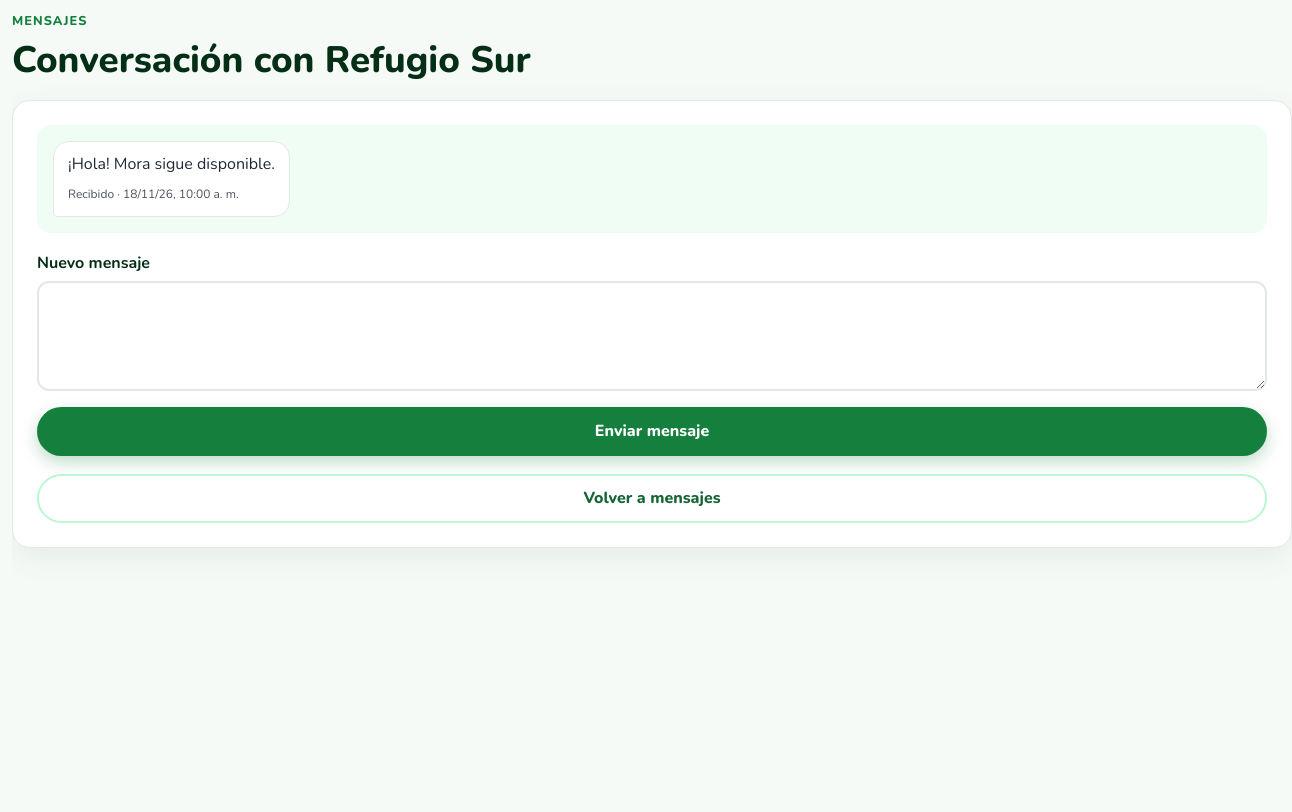
Mensajes › no envía mensajes vacíos y muestra los errores del envío
Check: the text "¡Hola! Mora sigue disponible." is shown, box [68, 152, 275, 177]
Click the button "Enviar mensaje" at [652, 432], box [37, 407, 1267, 456]
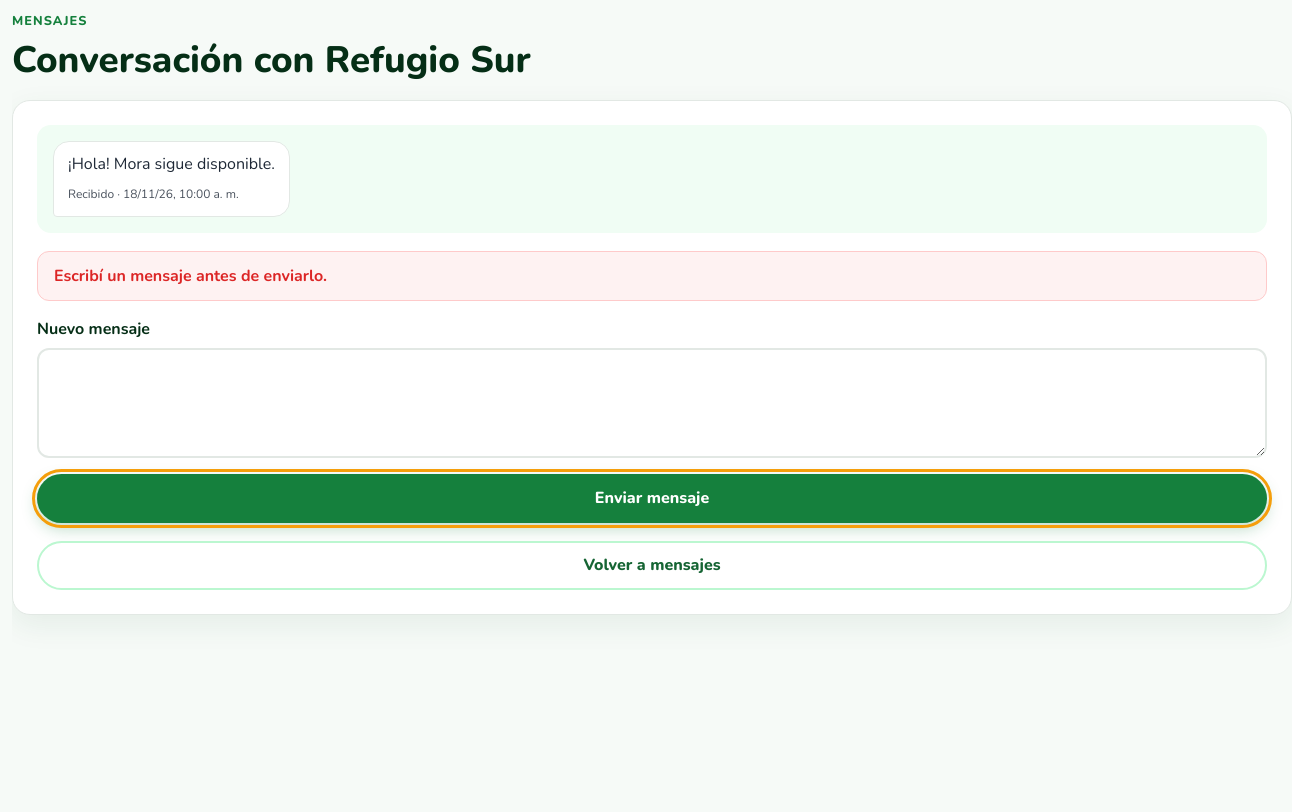
Check: the message shows "Escribí un mensaje", box [54, 265, 327, 287]
Type "Hola" into the text box labelled "Nuevo mensaje" at [652, 403], box [37, 348, 1267, 458]
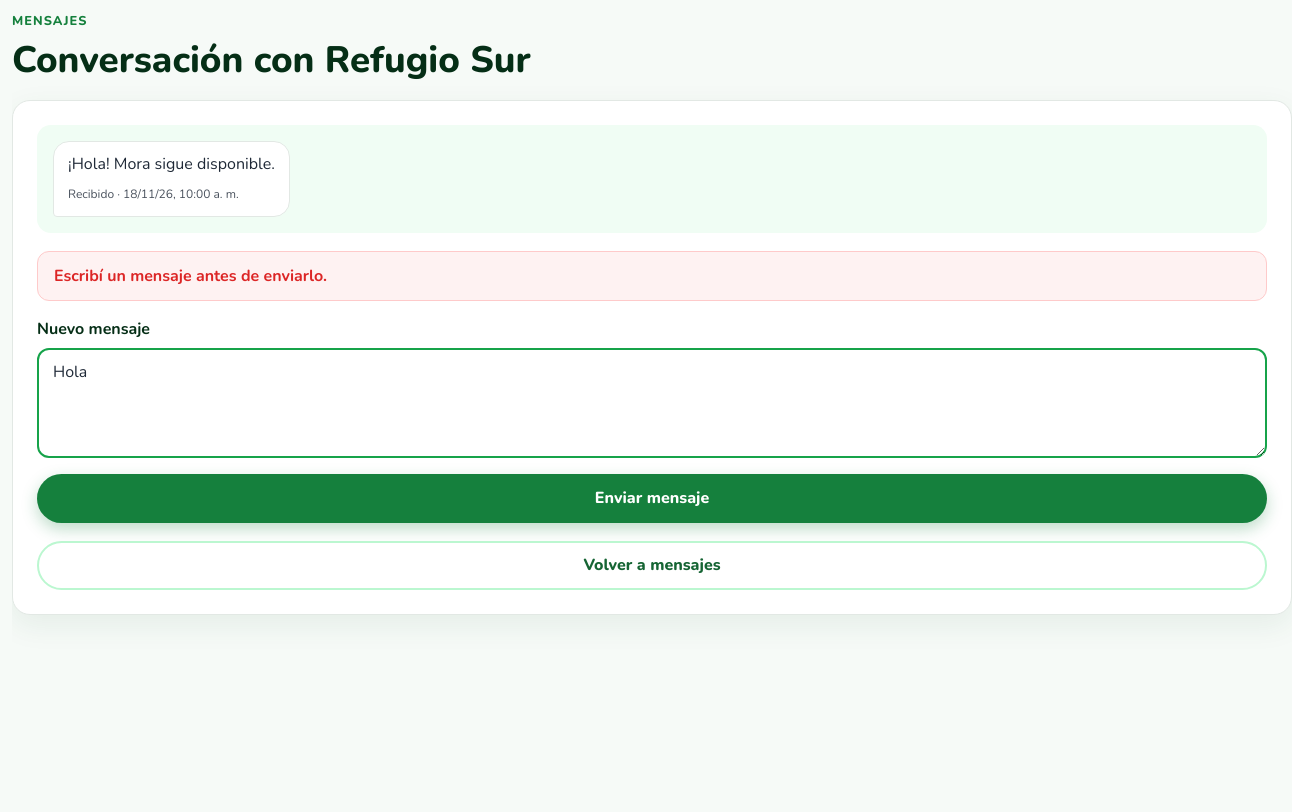
Click the button "Enviar mensaje" at [652, 499], box [37, 474, 1267, 523]
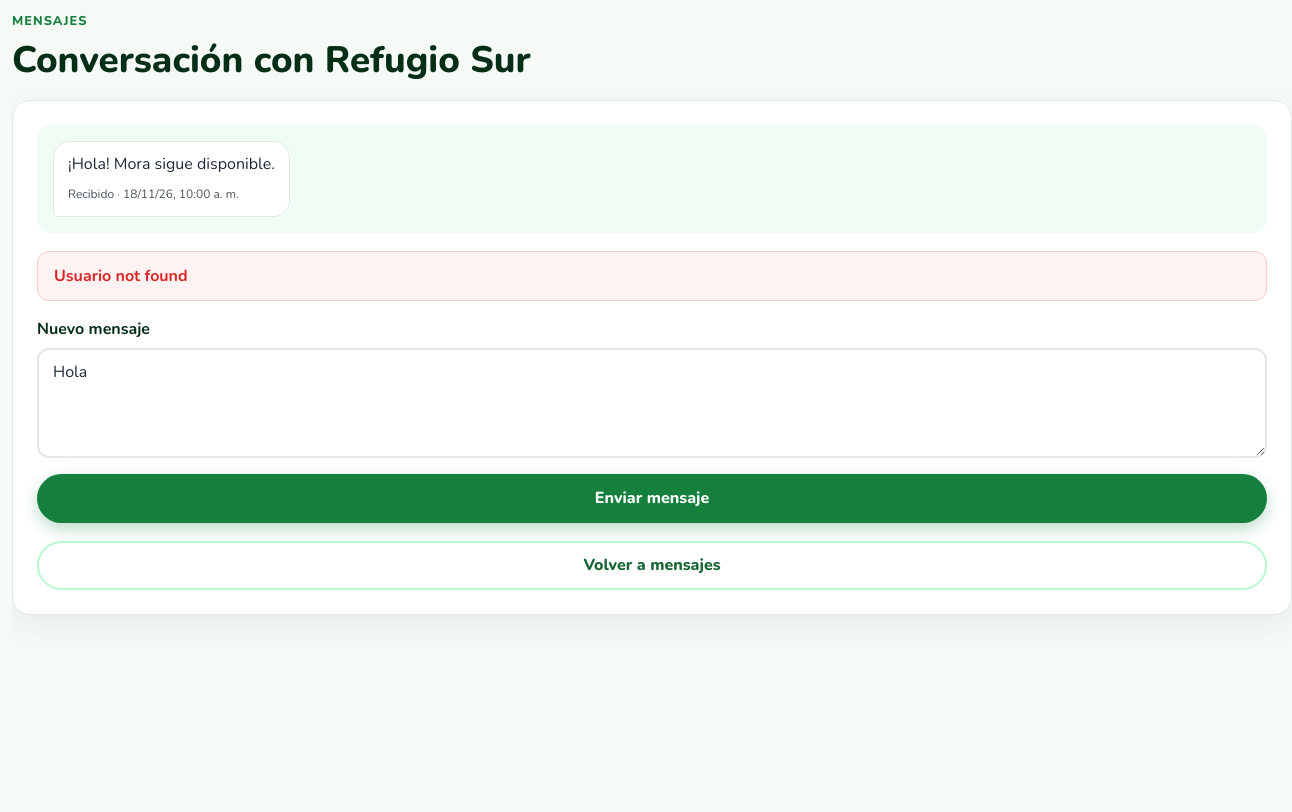
Check: the message reads "Usuario not found", box [54, 265, 188, 287]
